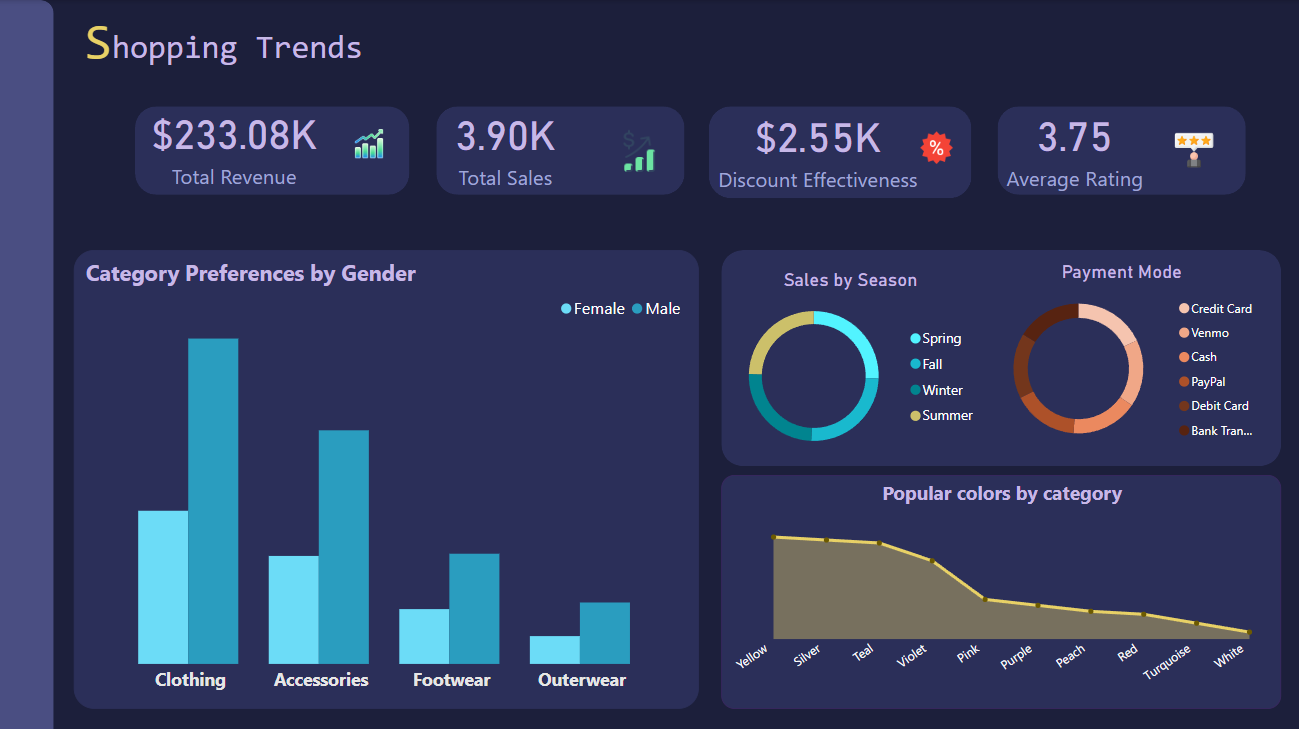

The dashboard page shown, as its layout file describes it:
{"tool":"powerbi","page":{"name":"Page 1","canvas":[1280,720],"ordinal":0},"visuals":[{"type":"shape","box":[132.6,104.6,269.4,86.9],"z":0},{"type":"shape","box":[427.6,104.6,243.7,86.9],"z":1000},{"type":"shape","box":[695.6,104,258,98.4],"z":2000},{"type":"shape","box":[708,245.4,549.7,212.3],"z":3000},{"type":"shape","box":[979.2,104.6,243.7,86.9],"z":4000},{"type":"card","fields":{"Values":["shopping_trends.Total sale"]},"box":[114.1,87.1,231.9,111.7],"z":5000},{"type":"clusteredColumnChart","title":"Category Preferences by Gender","fields":{"Category":["shopping_trends.Category"],"Series":["shopping_trends.Gender"],"Y":["CountNonNull(shopping_trends.Gender)"]},"box":[72.4,245.4,613.5,450.3],"z":6000},{"type":"card","fields":{"Values":["shopping_trends.Total Sales"]},"box":[379.1,89.6,234.4,109.2],"z":7000},{"type":"card","fields":{"Values":["shopping_trends.Discount Effectiveness"]},"box":[685.9,90.8,234.4,110.4],"z":8000},{"type":"card","fields":{"Values":["Avg(shopping_trends.Review Rating)"]},"box":[938.7,89.6,233.1,110.4],"z":9000},{"type":"shape","box":[0,0,52.8,720.2],"z":10000},{"type":"donutChart","title":"Sales by Season","fields":{"Y":["CountNonNull(shopping_trends.Season)"],"Category":["shopping_trends.Season"]},"box":[700.6,263.8,268.7,190.2],"z":11000},{"type":"donutChart","title":"Payment Mode","fields":{"Y":["CountNonNull(shopping_trends.Payment Method)"],"Category":["shopping_trends.Payment Method"]},"box":[955.8,256.4,290.8,190.2],"z":12000},{"type":"stackedAreaChart","title":"Popular colors by category","fields":{"Category":["shopping_trends.Color"],"Y":["CountNonNull(shopping_trends.Category)"]},"box":[708,466.3,549.7,229.4],"z":13000},{"type":"textbox","box":[78.5,8.6,300.6,72.4],"z":14000},{"type":"image","box":[337.4,119,50,45],"z":14001},{"type":"image","box":[595.1,122.7,64,54],"z":14002},{"type":"image","box":[1146,119,52,57],"z":14003},{"type":"image","box":[896.9,117.8,45.4,54],"z":14004}]}

Visuals, with their boxes in screenshot pixels (x1, y1, x2, y2), scaled from the page's 1280x720 canvas onto the 1299x729 screenshot:
shape: region(135, 106, 408, 194)
shape: region(434, 106, 681, 194)
shape: region(706, 105, 968, 205)
shape: region(719, 248, 1276, 463)
shape: region(994, 106, 1241, 194)
card - shopping_trends.Total sale: region(116, 88, 351, 201)
"Category Preferences by Gender" clusteredColumnChart: region(73, 248, 696, 704)
card - shopping_trends.Total Sales: region(385, 91, 623, 201)
card - shopping_trends.Discount Effectiveness: region(696, 92, 934, 204)
card - Avg(shopping_trends.Review Rating): region(953, 91, 1189, 202)
shape: region(0, 0, 54, 728)
"Sales by Season" donutChart: region(711, 267, 984, 460)
"Payment Mode" donutChart: region(970, 260, 1265, 452)
"Popular colors by category" stackedAreaChart: region(719, 472, 1276, 704)
textbox: region(80, 9, 385, 82)
image: region(342, 120, 393, 166)
image: region(604, 124, 669, 179)
image: region(1163, 120, 1216, 178)
image: region(910, 119, 956, 174)
